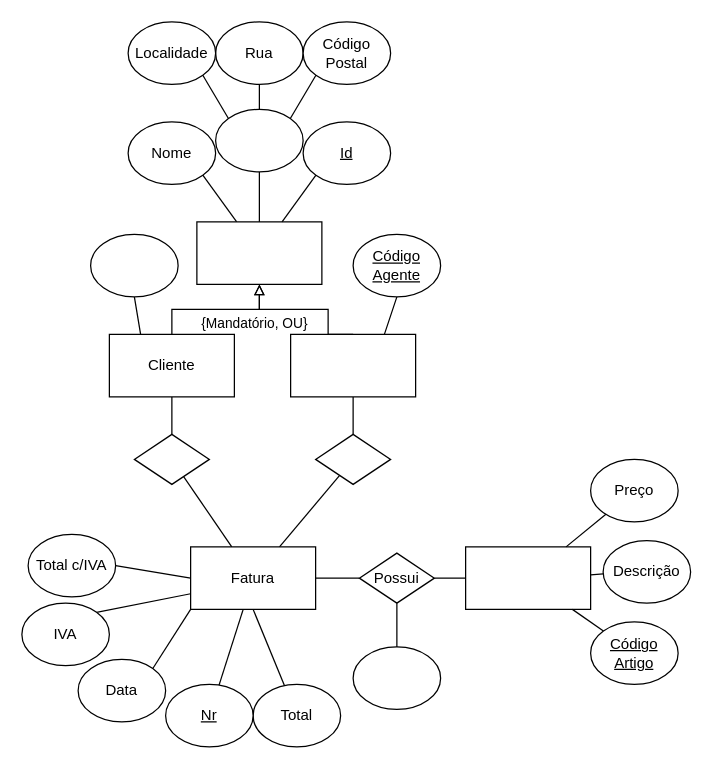
Image size: 713x769. Some labels were removed from this diagram. Each missing label, with the centre of its shape:
Agente da Empresa: point (352, 365)
Artigo: point (527, 577)
Compra: point (171, 458)
Código Cliente: point (133, 265)
Morada: point (258, 140)
Pessoa: point (259, 252)
Quantidade: point (396, 677)
Vende: point (352, 458)
